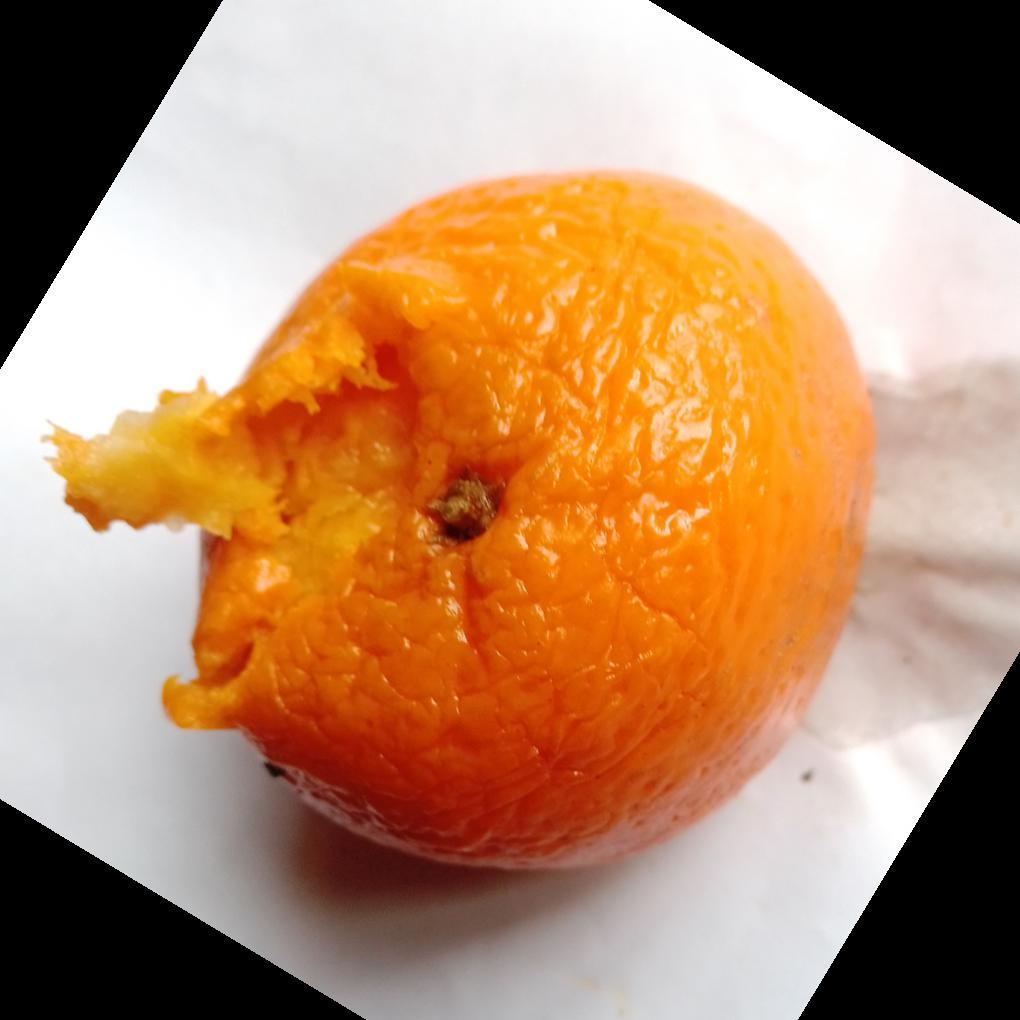FreshOrange: (44, 169, 877, 876)
